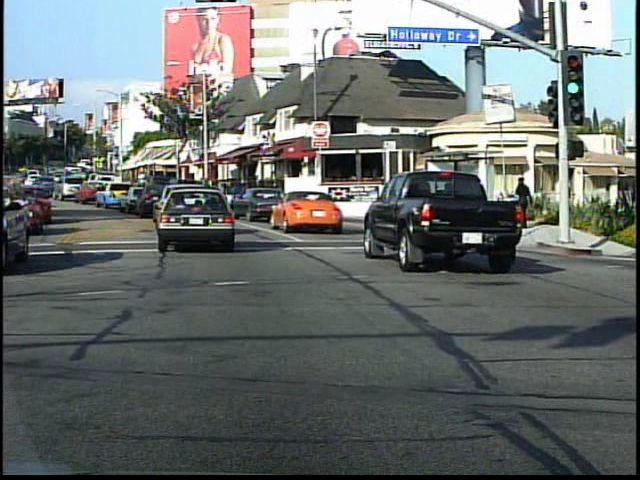person: (610, 191, 632, 262), (511, 175, 536, 234)
